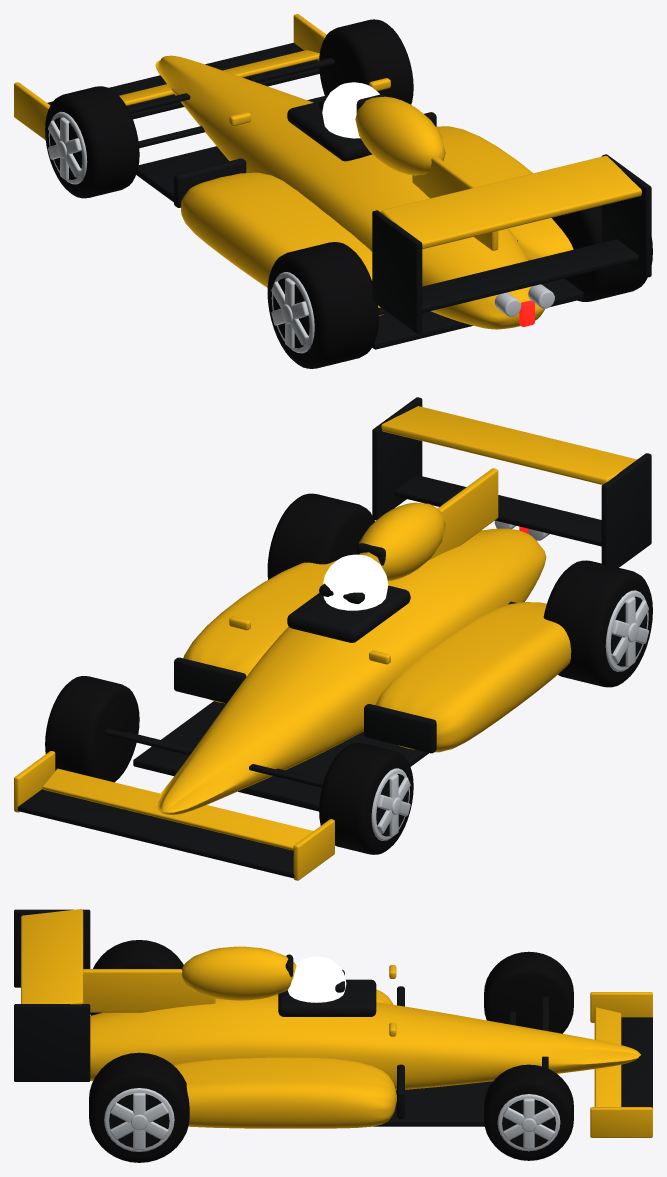
File: formula.glb
3 renders of one model, top to bottom at view 1: azimuth 30°, elevation 25°; view 2: azimuth 150°, elevation 25°; view 3: azimuth 270°, elevation 25°, orthographic. The views are drawn at different scales.
Visible parts, largest first — view 1: Paint parts, Charcoal parts, Wheel_RL, Wheel_FL, Wheel_FR, Wheel_RR, Headlamp parts, Silver parts; view 2: Paint parts, Charcoal parts, Wheel_RL, Wheel_FL, Wheel_FR, Wheel_RR, Headlamp parts; view 3: Paint parts, Charcoal parts, Wheel_RR, Wheel_FR, Wheel_FL, Headlamp parts, Wheel_RL.
Part boxes in pixels (x1,y1,x2,y2): Paint parts: (14,14,641,329); Charcoal parts: (47,43,651,349); Wheel_RL: (267,242,378,368); Wheel_FL: (45,86,139,198); Wheel_FR: (319,19,413,104); Wheel_RR: (551,205,652,301); Headlamp parts: (322,82,379,138); Silver parts: (494,284,554,316); Paint parts: (14,406,636,880); Charcoal parts: (17,397,651,878); Wheel_RL: (543,560,652,687); Wheel_FL: (319,742,413,854); Wheel_FR: (45,676,139,782); Wheel_RR: (267,493,374,579); Headlamp parts: (323,554,388,610); Paint parts: (21,909,652,1137); Charcoal parts: (14,909,652,1126); Wheel_RR: (89,1052,189,1162); Wheel_FR: (484,1064,573,1160); Wheel_FL: (484,951,573,1033); Headlamp parts: (288,956,346,1002); Wheel_RL: (90,940,183,1015).
Size of the model in its own units: 2.49 by 1.2 by 4.69.
